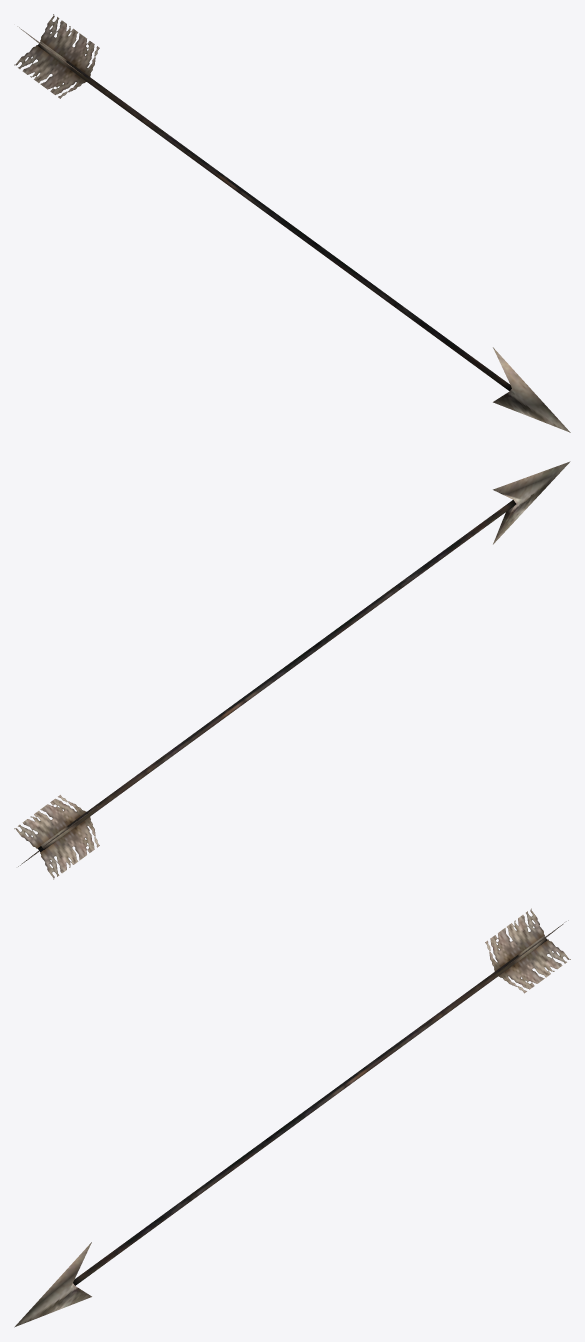
File: bonehunter_arrow.glb
3 renders of one model, top to bottom at view 1: azimuth 30°, elevation 25°; view 2: azimuth 150°, elevation 25°; view 3: azimuth 330°, elevation 25°, orthographic.
Visible parts, largest first — view 1: bonehunter_arrow; view 2: bonehunter_arrow; view 3: bonehunter_arrow.
Boxes of the visible parts, left/top/right/bottom form: bonehunter_arrow: left=14, top=14, right=570, bottom=432; bonehunter_arrow: left=14, top=461, right=570, bottom=879; bonehunter_arrow: left=14, top=908, right=570, bottom=1327.
Bounding box in the file's own units: 1.11 × 1.48 × 25.98.
Materials: 1 (1 with a texture image).
